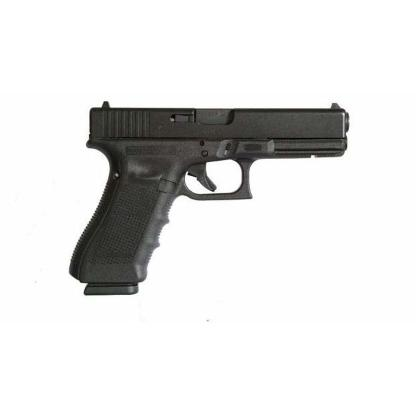gun: (67, 102, 348, 296)
